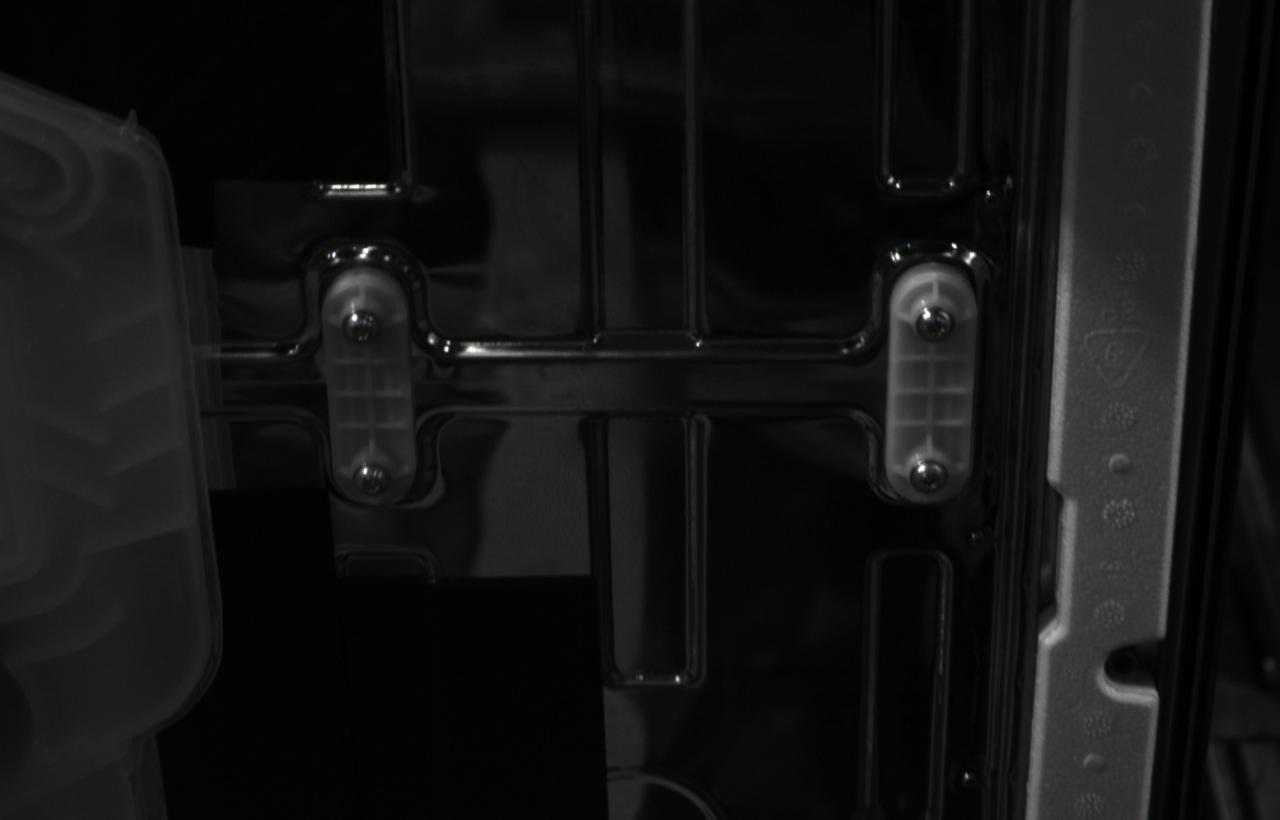vida-ok: (339, 309, 385, 348), (349, 461, 391, 502), (909, 459, 952, 499), (915, 306, 957, 346)
